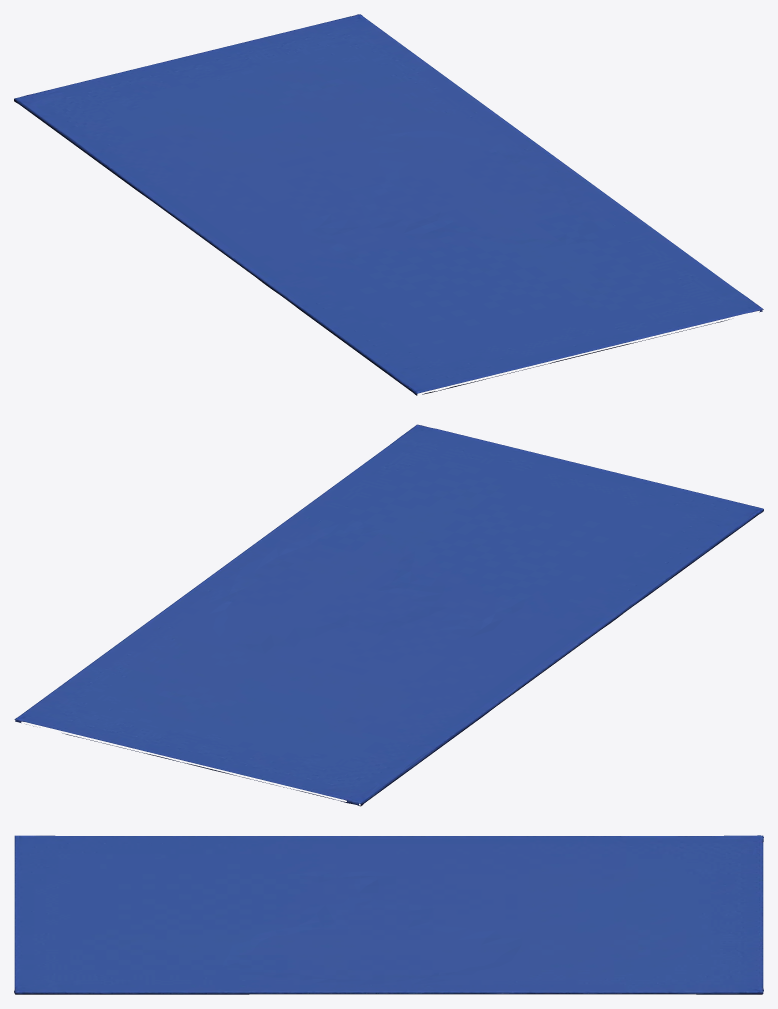
The model's file is 5350f243-aeed-492d-b569-8d2bac44334a.glb.
The picture shows the model from 3 angles, top to bottom: view 1: azimuth 30°, elevation 25°; view 2: azimuth 150°, elevation 25°; view 3: azimuth 270°, elevation 25°; orthographic projection. The views are drawn at different scales.
Parts seen in each view (by area): view 1: world; view 2: world; view 3: world.
Part boxes in pixels (x1,y1,x2,y2): world: (14,14,763,395); world: (14,424,763,806); world: (14,835,763,994).
Bounding box in the file's own units: 0.4964 × 0.0044 × 1.
Materials: 1 (1 with a texture image).
